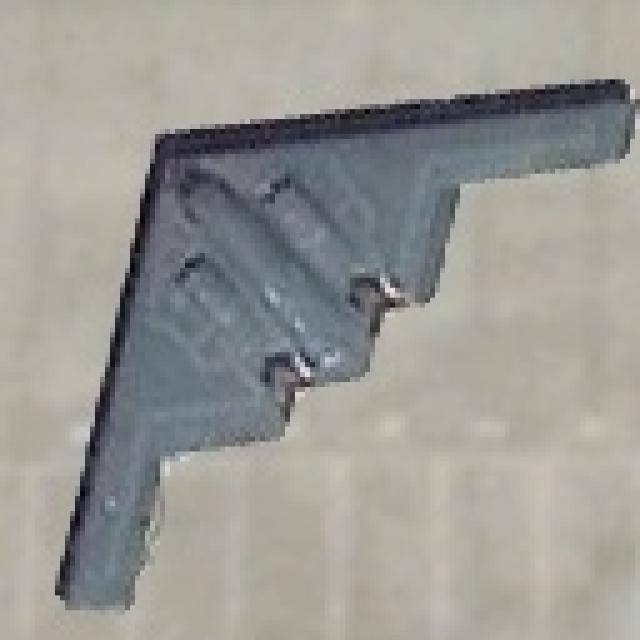B-2_TopDown: (45, 70, 635, 610)
